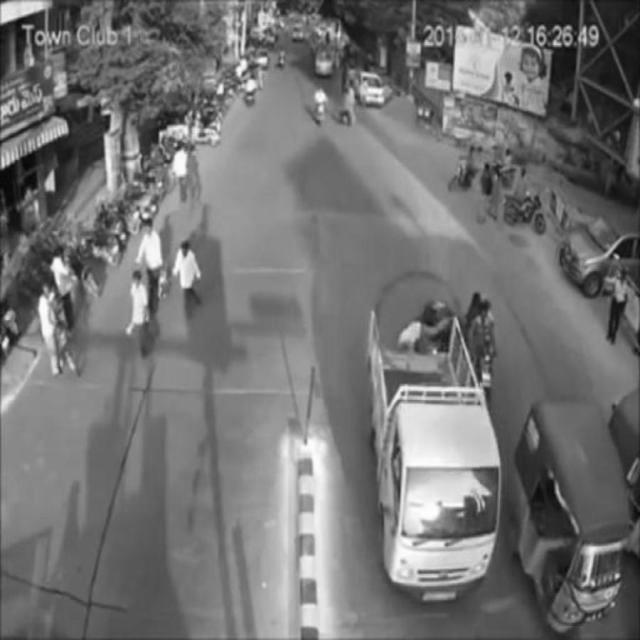accident: (371, 306, 502, 597)
person: (169, 237, 205, 321), (137, 217, 167, 315), (123, 268, 153, 359)
vehicle: (507, 400, 628, 633), (559, 205, 640, 303), (462, 291, 503, 404)
